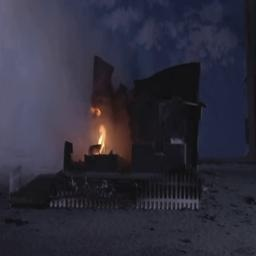fire: (83, 104, 119, 153)
smoke: (0, 0, 80, 134)
